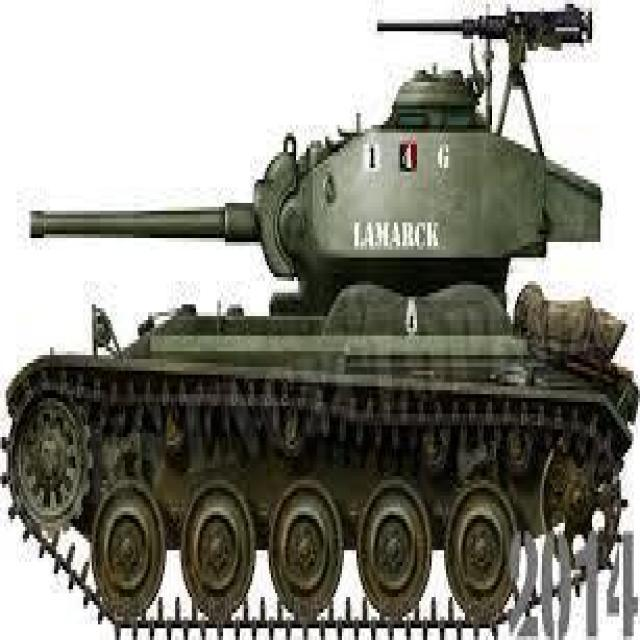MIL_MBT: (8, 300, 627, 636)
